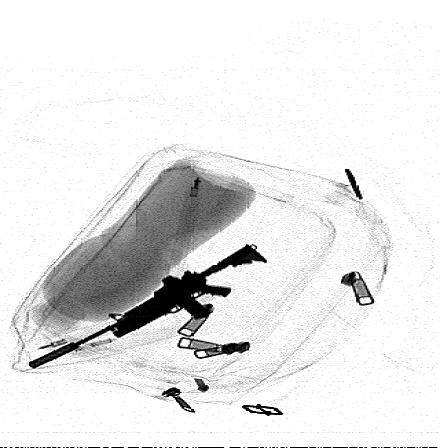Gun: (27, 241, 270, 371)
